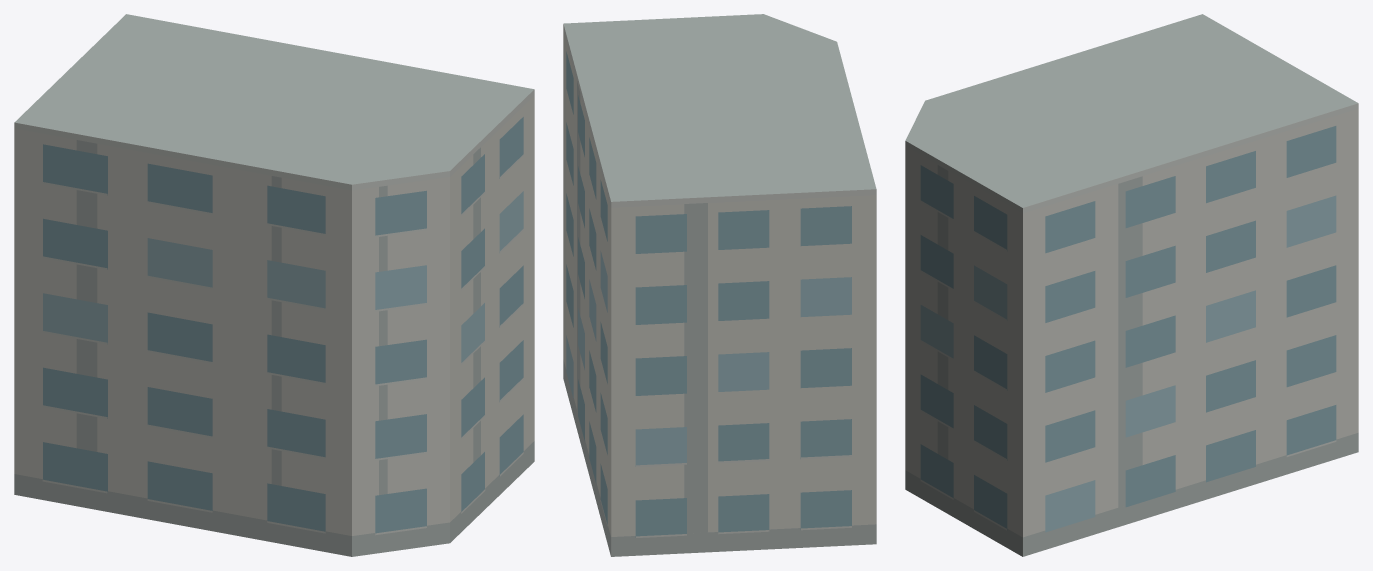
File: residential-7b2e99f8-bb51-45d4-9b42-9a0f51eddfe5.glb
3 views of the same model, side by side, from view 1: azimuth 30°, elevation 25°; view 2: azimuth 150°, elevation 25°; view 3: azimuth 270°, elevation 25° (orthographic). The views are drawn at different scales.
Visible parts, largest first — view 1: residential-7b2e99f8-bb51-45d4-9b42-9a0f51eddfe5.tmp; view 2: residential-7b2e99f8-bb51-45d4-9b42-9a0f51eddfe5.tmp; view 3: residential-7b2e99f8-bb51-45d4-9b42-9a0f51eddfe5.tmp.
Boxes of the visible parts, box(x1,y1,x2,y2) form: residential-7b2e99f8-bb51-45d4-9b42-9a0f51eddfe5.tmp: box(14, 14, 534, 556); residential-7b2e99f8-bb51-45d4-9b42-9a0f51eddfe5.tmp: box(563, 14, 876, 556); residential-7b2e99f8-bb51-45d4-9b42-9a0f51eddfe5.tmp: box(905, 14, 1358, 556).
Size of the model in its own units: 18.2 by 15.25 by 17.97.
